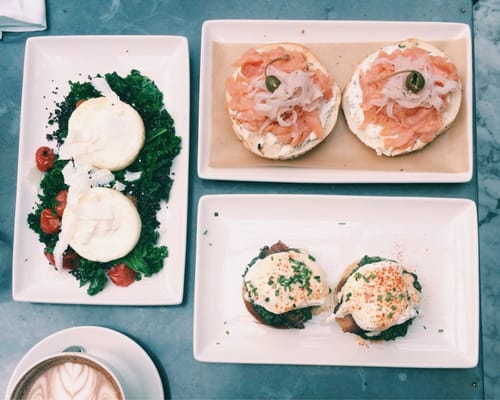sushi: (192, 194, 487, 375), (12, 32, 188, 306), (3, 326, 170, 400)
